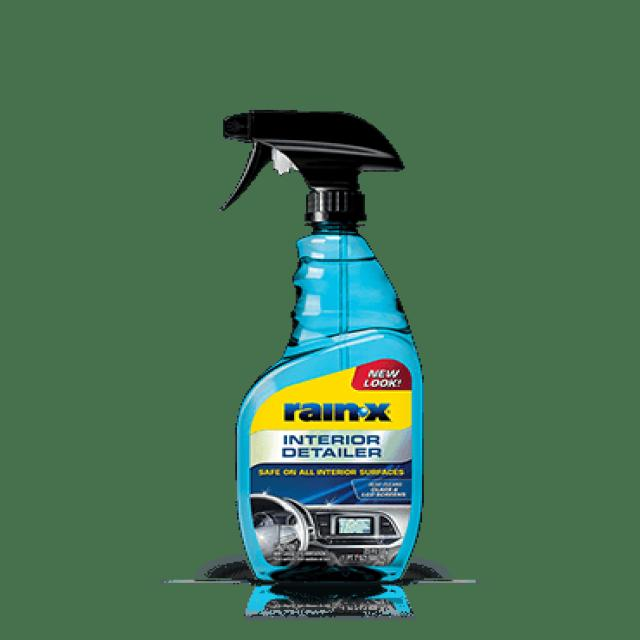winwinshield_washer: (214, 106, 446, 586)
